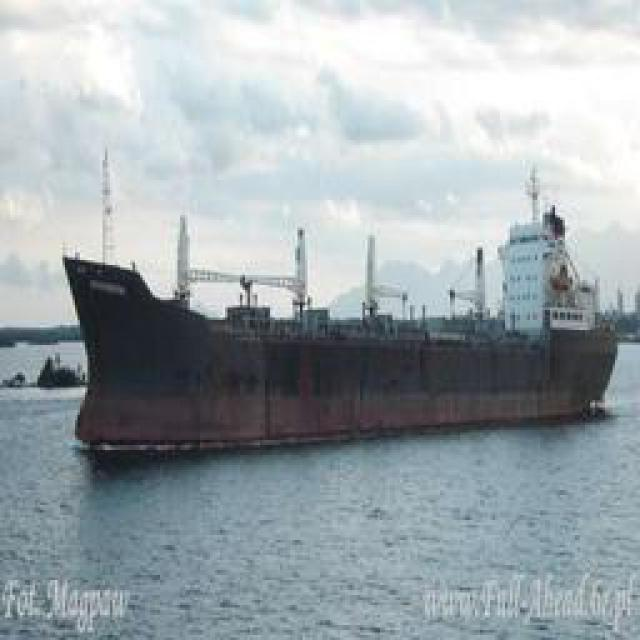Ship: (66, 204, 616, 447)
